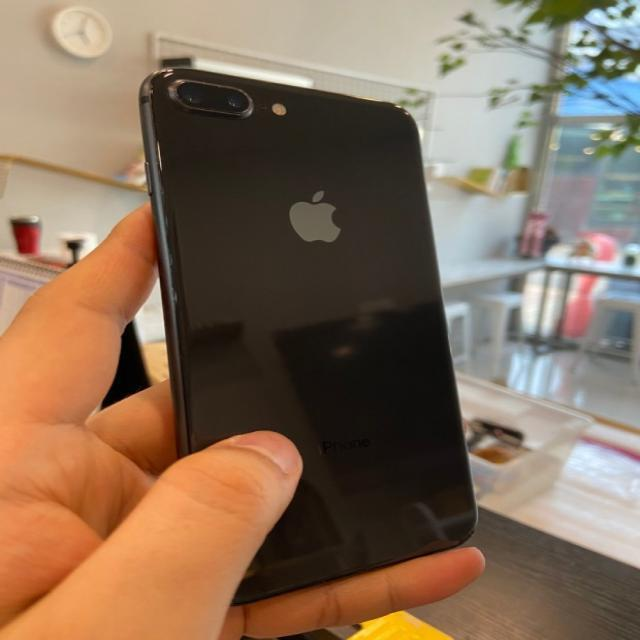lens: (163, 79, 257, 119)
phone: (136, 65, 475, 605)
